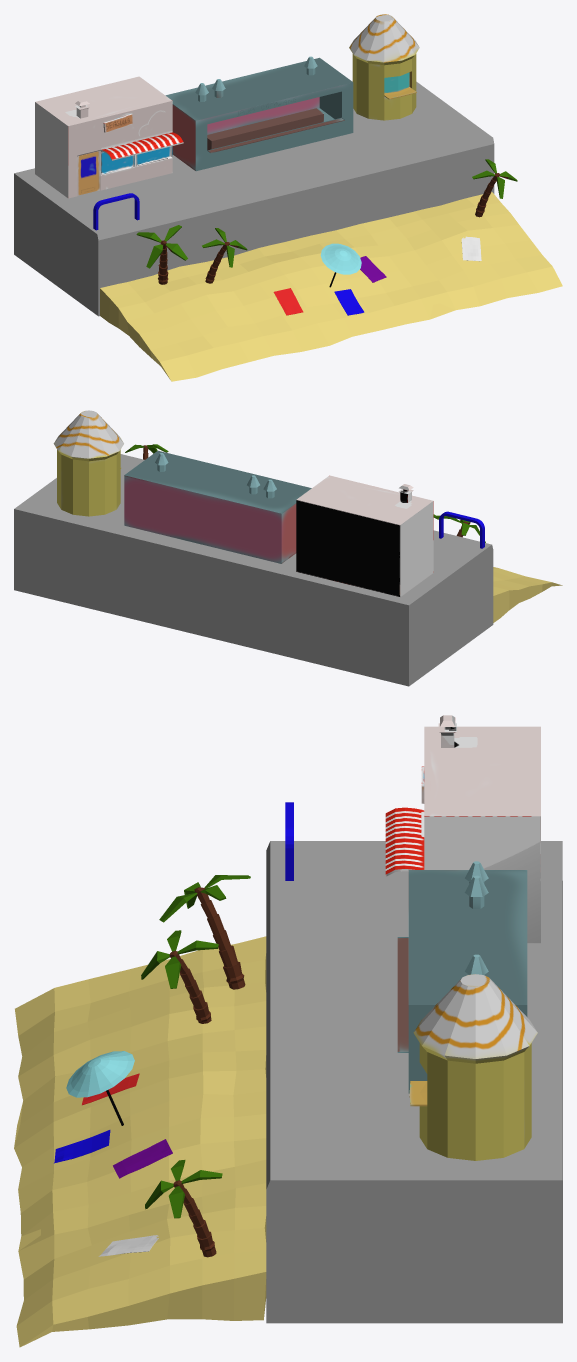
File: boardwalk_buildings.glb
The picture shows the model from 3 angles, top to bottom: view 1: azimuth 30°, elevation 25°; view 2: azimuth 150°, elevation 25°; view 3: azimuth 270°, elevation 25°; orthographic projection. The views are drawn at different scales.
Visible parts, largest first — view 1: Cube.001, Cube, Cube.004, Cube.003, Cylinder.004, Cylinder.001, Sphere, Cylinder.003, Cylinder.002, Cube.002, Plane.002, Plane (+1 smaller); view 2: Cube.001, Cube.004, Cube.003, Cylinder.004, Cube, Cube.002; view 3: Cube.001, Cube, Cube.003, Cylinder.004, Cube.004, Cylinder.001, Cylinder.003, Sphere, Cylinder.002, Plane.001, Plane.
Part boxes in pixels (left/top/right/bottom): Cube.001: left=14, top=81, right=494, bottom=316; Cube: left=100, top=192, right=562, bottom=381; Cube.004: left=165, top=56, right=353, bottom=171; Cube.003: left=35, top=76, right=183, bottom=198; Cylinder.004: left=349, top=14, right=419, bottom=120; Cylinder.001: left=136, top=225, right=187, bottom=284; Sphere: left=320, top=243, right=361, bottom=274; Cylinder.003: left=472, top=159, right=517, bottom=217; Cylinder.002: left=202, top=228, right=247, bottom=283; Cube.002: left=93, top=193, right=139, bottom=230; Plane.002: left=273, top=288, right=303, bottom=315; Plane: left=334, top=289, right=364, bottom=315; Cube.001: left=14, top=454, right=493, bottom=686; Cube.004: left=124, top=450, right=311, bottom=563; Cube.003: left=296, top=475, right=433, bottom=597; Cylinder.004: left=53, top=410, right=123, bottom=516; Cube: left=493, top=567, right=562, bottom=622; Cube.002: left=439, top=511, right=484, bottom=548; Cube.001: left=266, top=841, right=562, bottom=1323; Cube: left=14, top=936, right=266, bottom=1347; Cube.003: left=385, top=715, right=540, bottom=943; Cylinder.004: left=409, top=974, right=537, bottom=1160; Cube.004: left=397, top=861, right=527, bottom=1093; Cylinder.001: left=159, top=875, right=250, bottom=989; Cylinder.003: left=145, top=1160, right=222, bottom=1257; Sphere: left=66, top=1051, right=134, bottom=1097; Cylinder.002: left=141, top=930, right=218, bottom=1023; Plane.001: left=113, top=1139, right=172, bottom=1178; Plane: left=54, top=1130, right=110, bottom=1163.
Bounding box in the file's own units: 27 × 12.18 × 18.46.
Materials: 13 (3 with a texture image).
